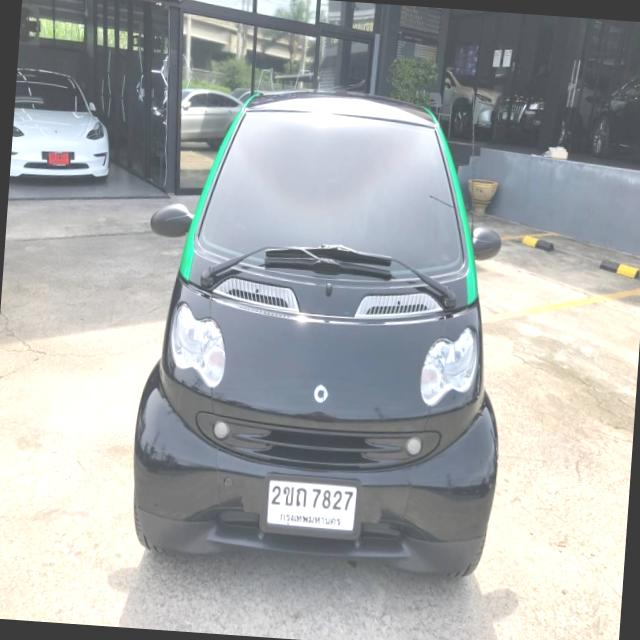license_plate: (258, 468, 364, 542)
